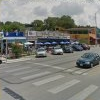crosswalk: (7, 66, 100, 100)
